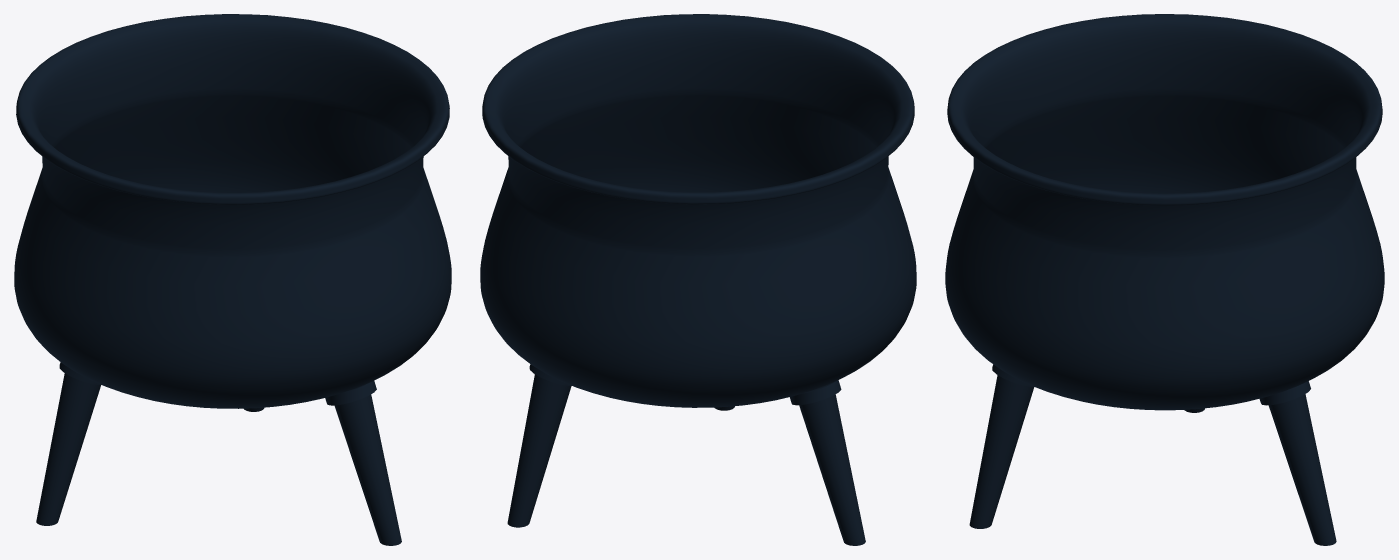
The model's file is Kazan.fbx.
3 renders of one model, left to right at view 1: azimuth 30°, elevation 25°; view 2: azimuth 150°, elevation 25°; view 3: azimuth 270°, elevation 25°, orthographic.
Parts seen in each view (by area): view 1: kazan; view 2: kazan; view 3: kazan.
Part boxes in pixels (x1,y1,x2,y2): kazan: [14, 14, 451, 545]; kazan: [480, 14, 916, 545]; kazan: [945, 14, 1384, 545].
Bounding box in the file's own units: 1130 × 1099 × 1130.
